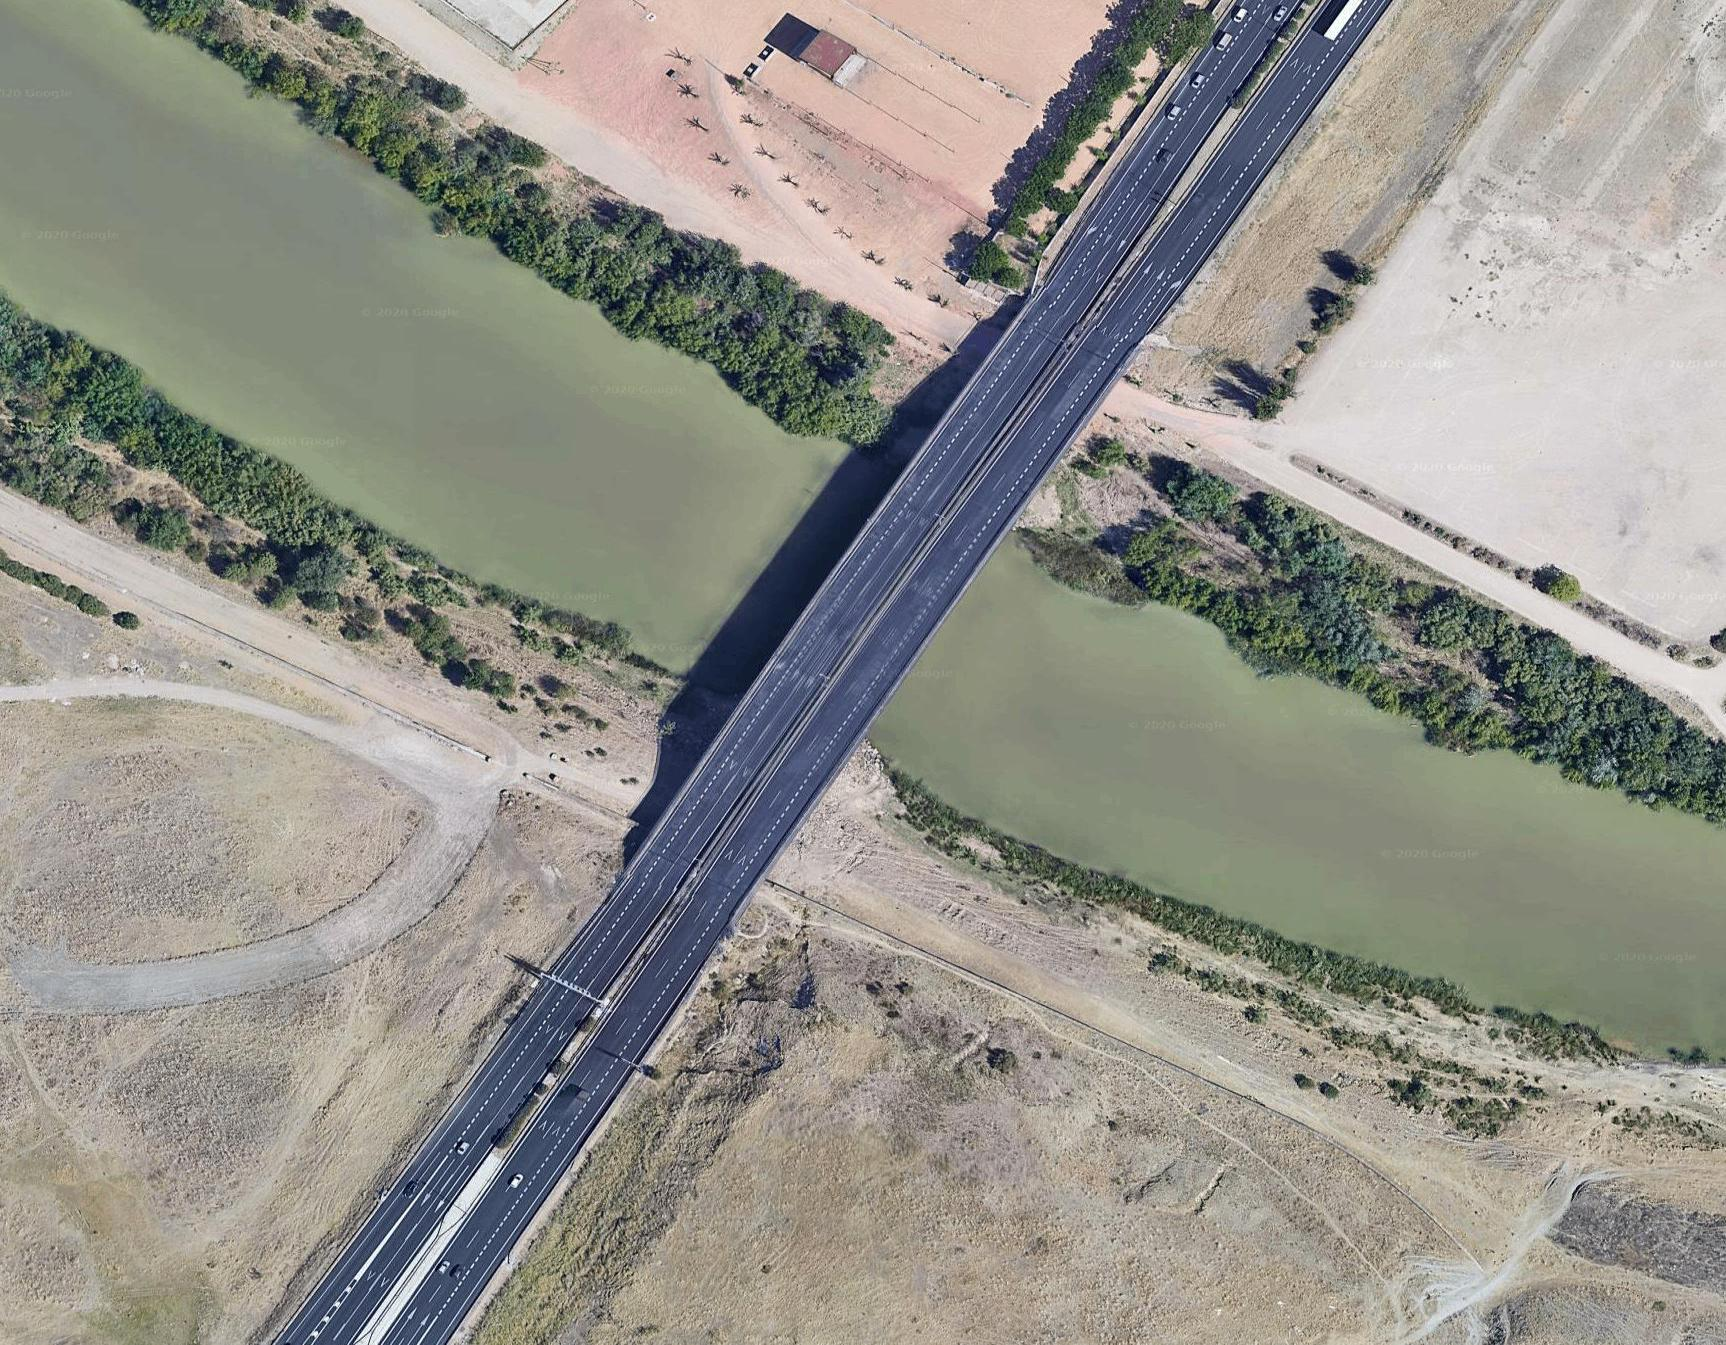bridge: (616, 388, 1174, 764)
small-vehicle: (506, 1168, 527, 1192), (453, 1136, 469, 1159)
